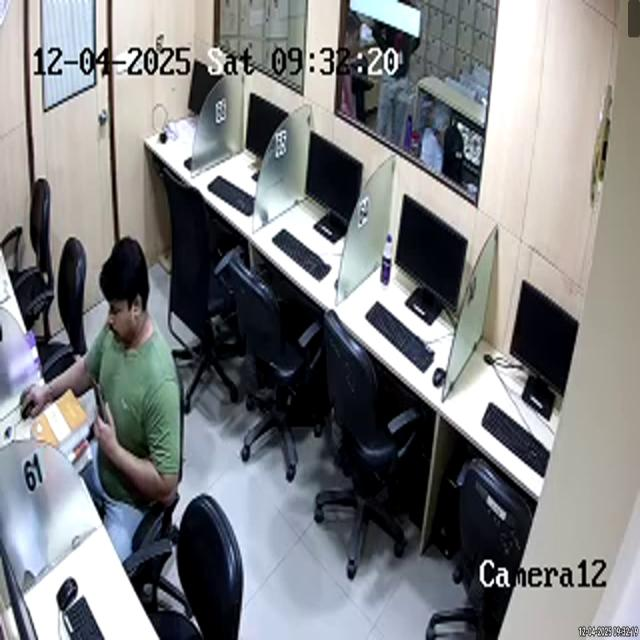phone: (92, 374, 114, 426)
